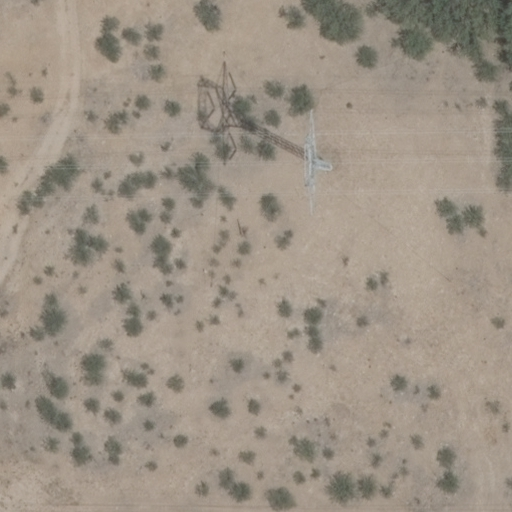TT: (252, 99, 329, 210)
